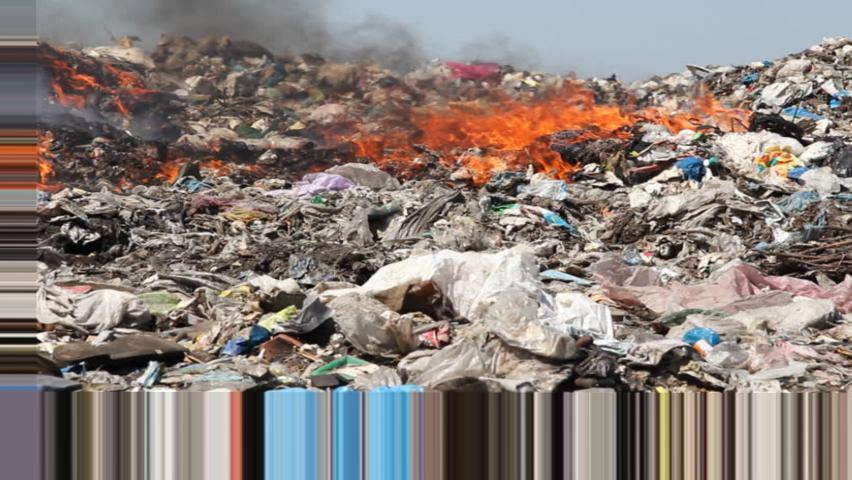fire: (348, 76, 607, 179), (612, 84, 765, 138), (46, 49, 146, 120), (126, 141, 269, 179)
